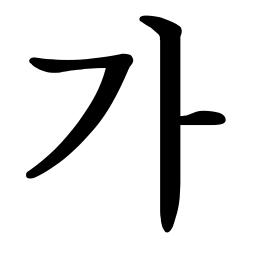Gaji: (148, 98, 201, 145)
